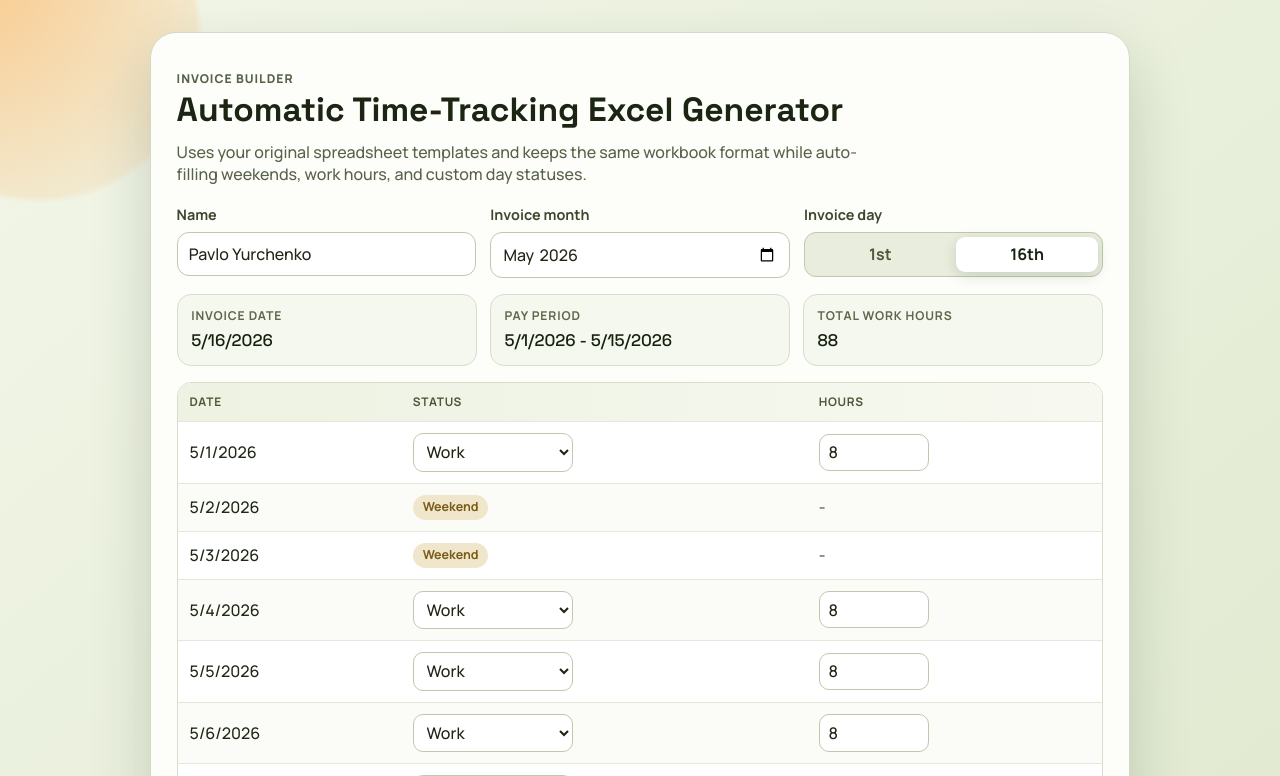
App editable day behavior › sanitizes negative work hours to 0
Replace the text in the field labelled "Invoice month" with "2026-02": (640, 255) top-left (490, 232), bottom-right (790, 278)
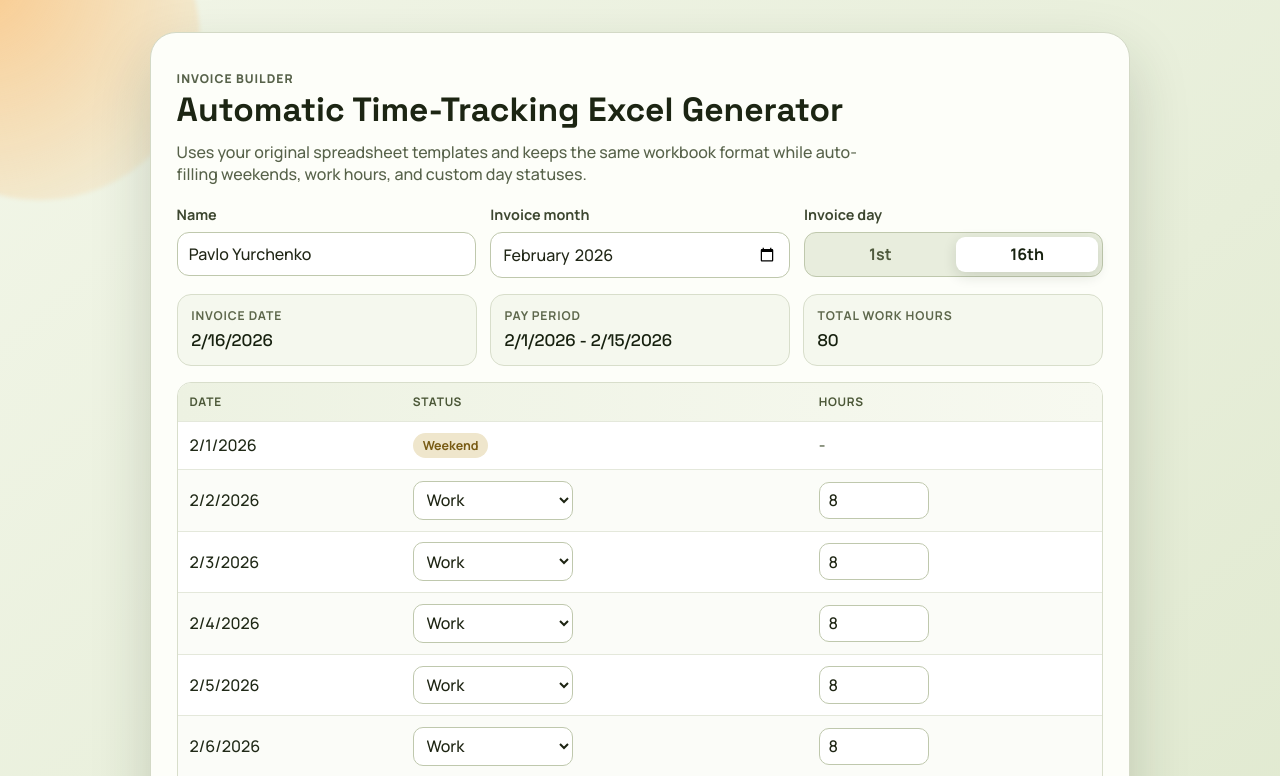
Click the button "16th": (1027, 254) top-left (956, 237), bottom-right (1098, 272)
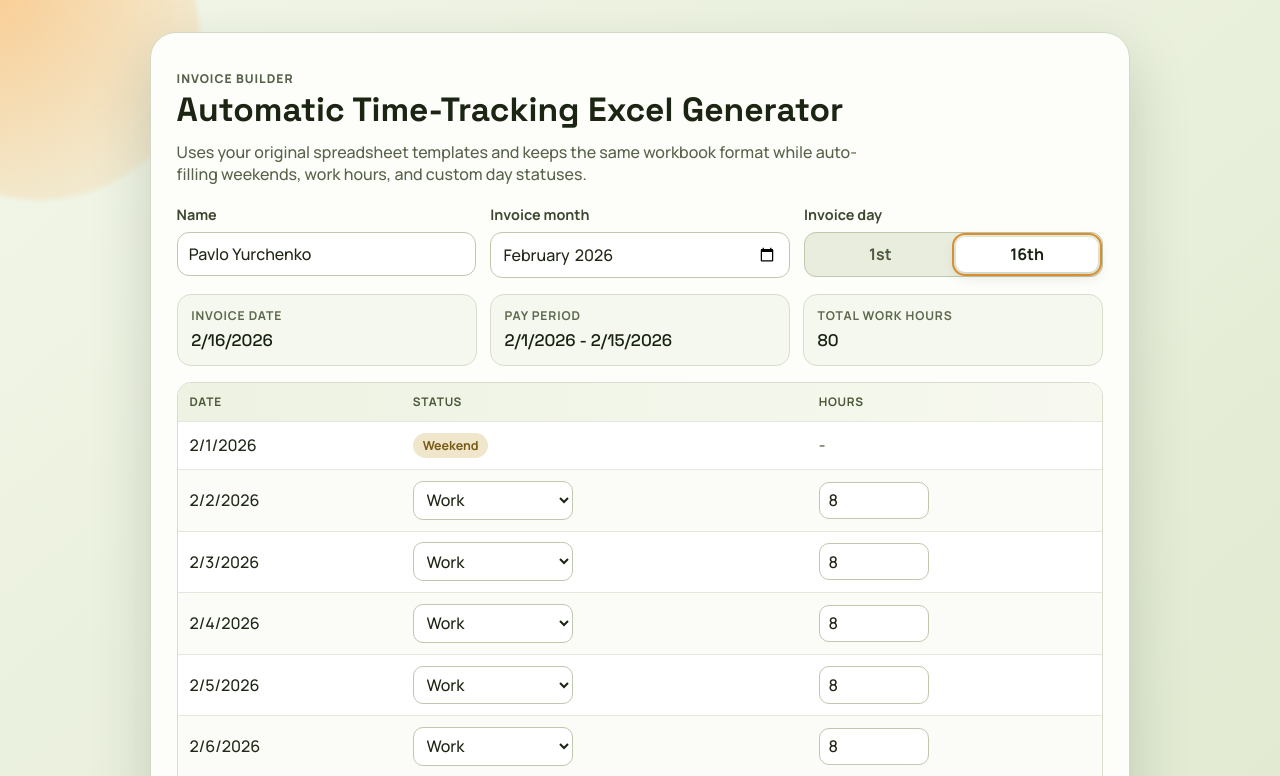
Replace the text in the number field in the row of "2/2/2026" with "-2": (874, 500) top-left (819, 482), bottom-right (929, 519)
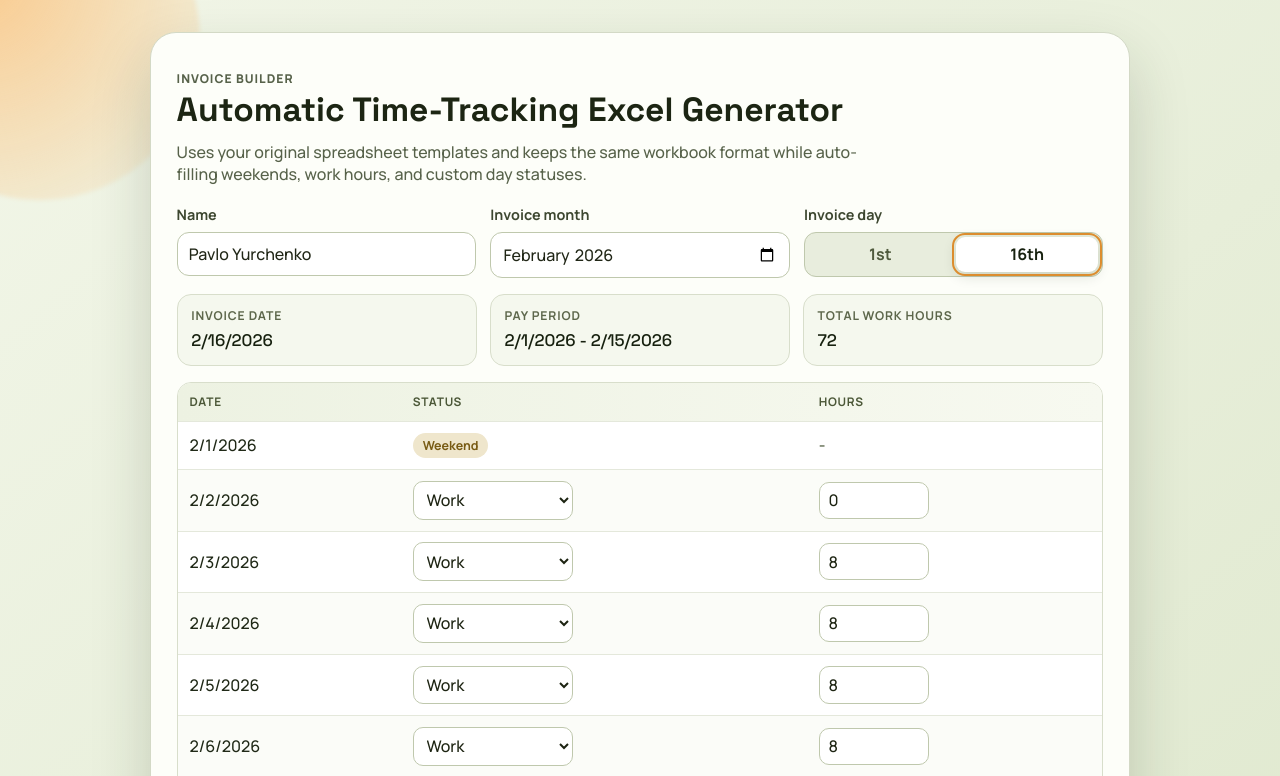
Expected: the number field in the row of "2/2/2026" holds "0", top-left (819, 482), bottom-right (929, 519)
Expected: the text "72" is shown, top-left (818, 329), bottom-right (837, 351)
